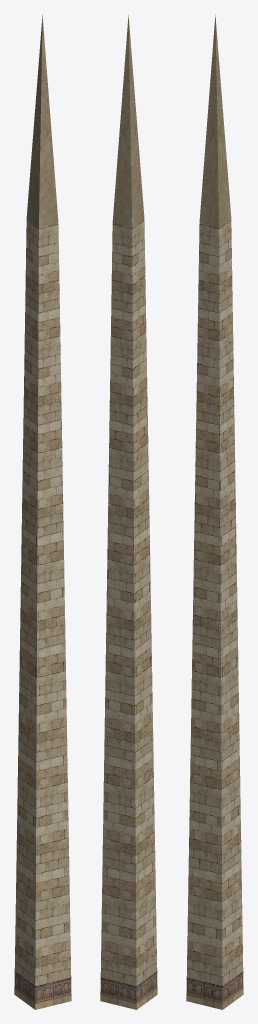
File: thm_nboo_thed_imprv_obelisk_s02_l0.fbx
3 views of the same model, side by side, from view 1: azimuth 30°, elevation 25°; view 2: azimuth 150°, elevation 25°; view 3: azimuth 330°, elevation 25° (orthographic).
Parts seen in each view (by area): view 1: mesh_node; view 2: mesh_node; view 3: mesh_node.
Part boxes in pixels (x1,y1,x2,y2): mesh_node: (14,15,71,1009); mesh_node: (100,15,157,1009); mesh_node: (186,15,243,1009).
Size of the model in its own units: 0.8536 by 22.09 by 0.8536.
